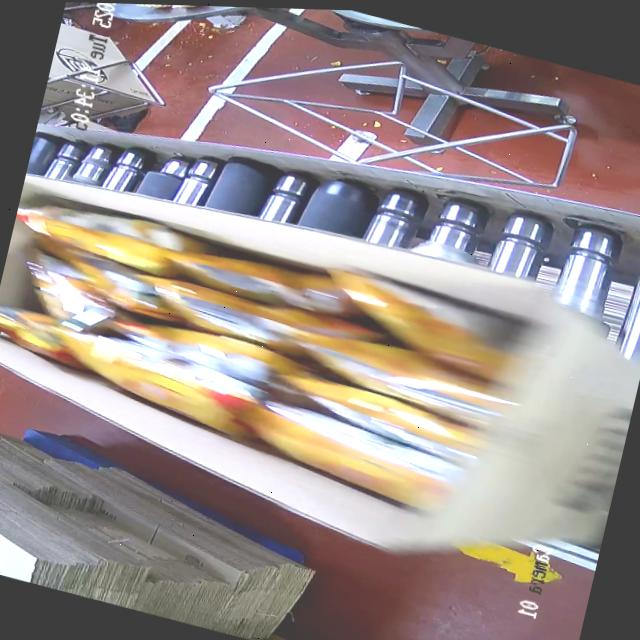FRENCH_CHEESE: (0, 184, 516, 492)
